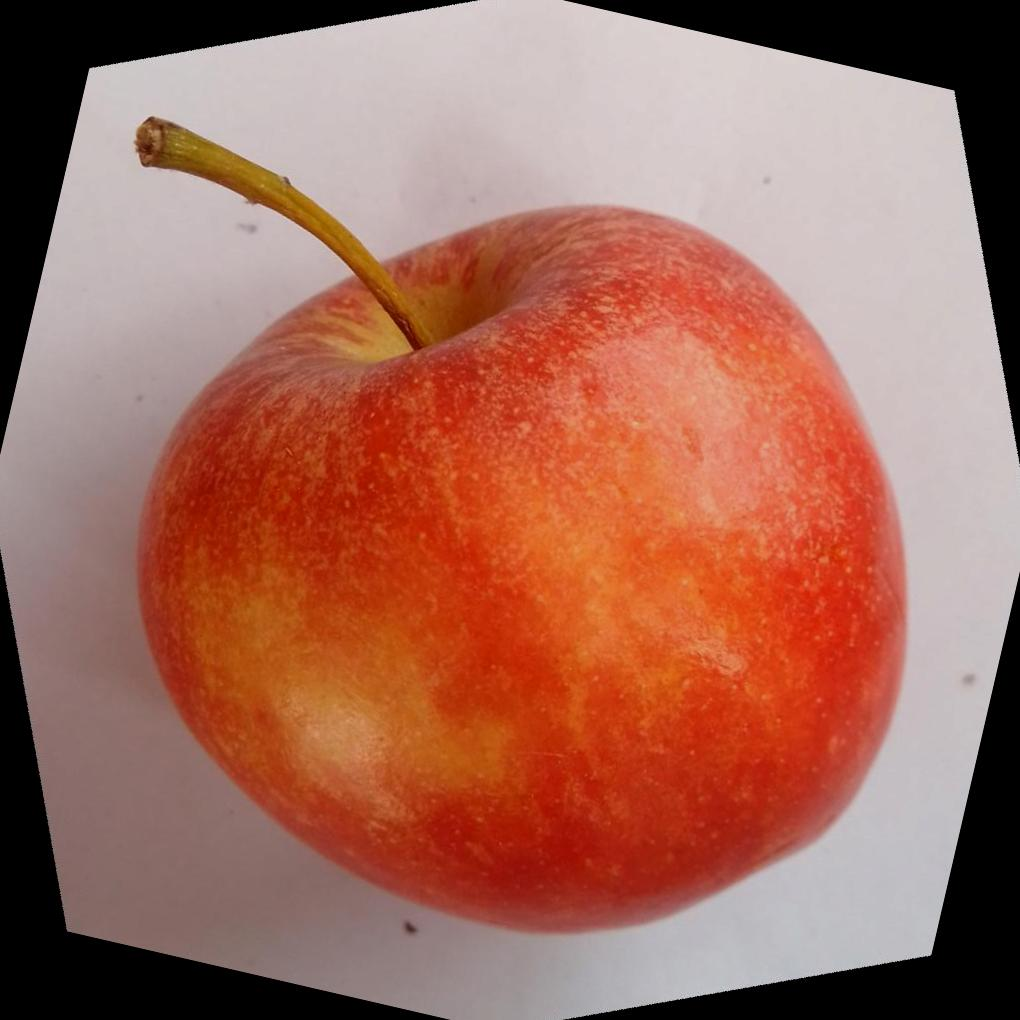FreshGuava: (136, 126, 913, 937)
